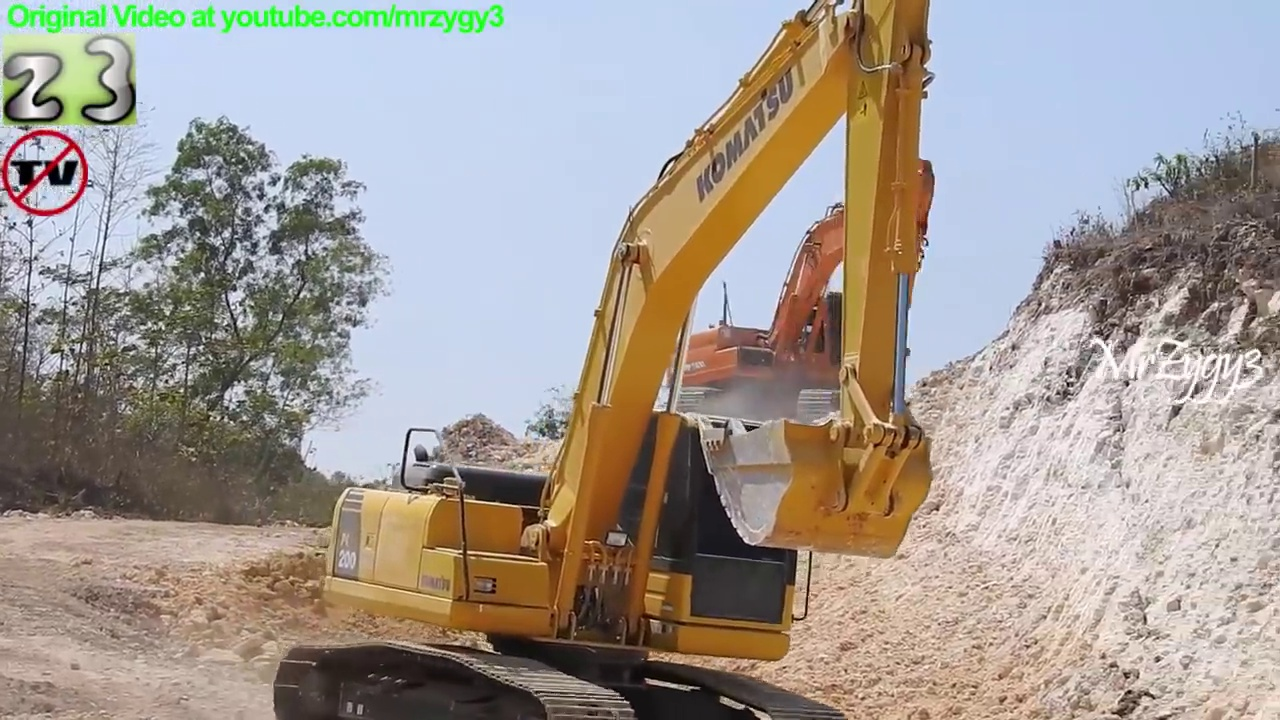excavator: (268, 1, 944, 720), (658, 152, 940, 438)
